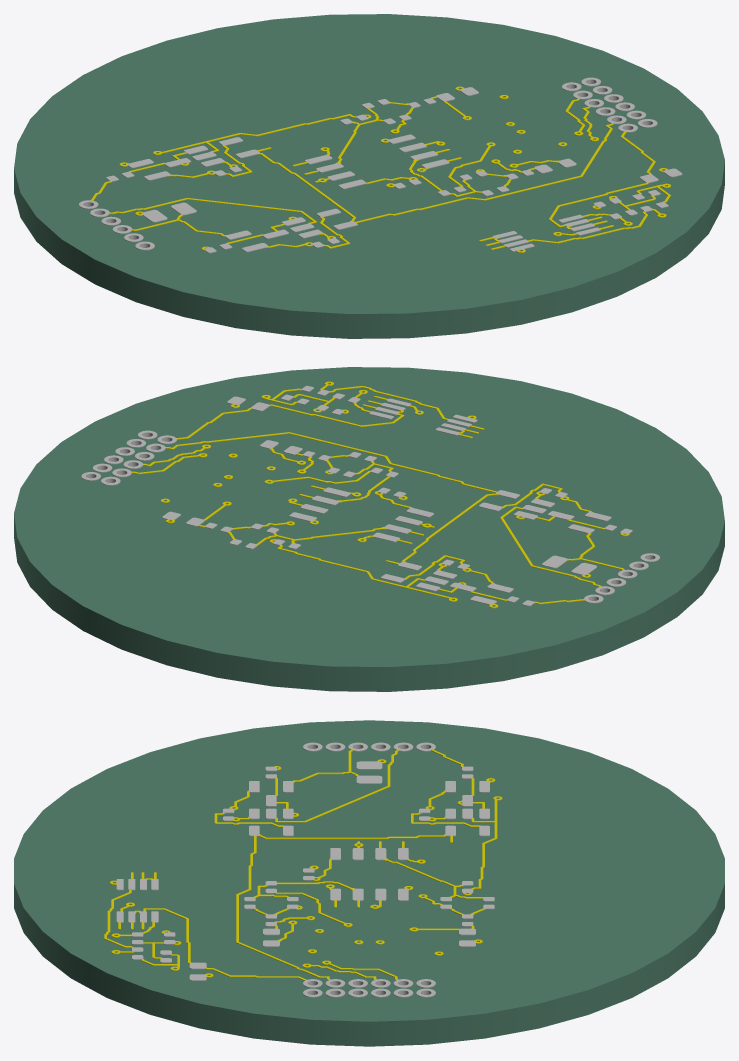
File: AB1B_with_components.glb
3 renders of one model, top to bottom at view 1: azimuth 30°, elevation 25°; view 2: azimuth 150°, elevation 25°; view 3: azimuth 270°, elevation 25°, orthographic.
Visible parts, largest first — view 1: =>[0:1:1:5], =>[0:1:1:3], =>[0:1:1:2]; view 2: =>[0:1:1:5], =>[0:1:1:3], =>[0:1:1:2]; view 3: =>[0:1:1:5], =>[0:1:1:3], =>[0:1:1:2].
Part boxes in pixels (left/top/right/bottom): =>[0:1:1:5]: left=14, top=14, right=724, bottom=338; =>[0:1:1:3]: left=79, top=77, right=682, bottom=253; =>[0:1:1:2]: left=91, top=86, right=670, bottom=252; =>[0:1:1:5]: left=14, top=367, right=724, bottom=691; =>[0:1:1:3]: left=81, top=385, right=659, bottom=606; =>[0:1:1:2]: left=132, top=381, right=629, bottom=608; =>[0:1:1:5]: left=14, top=720, right=724, bottom=1046; =>[0:1:1:3]: left=116, top=742, right=494, bottom=997; =>[0:1:1:2]: left=104, top=749, right=502, bottom=980.
Size of the model in its own units: 0.04 by 0.00162 by 0.0399.
